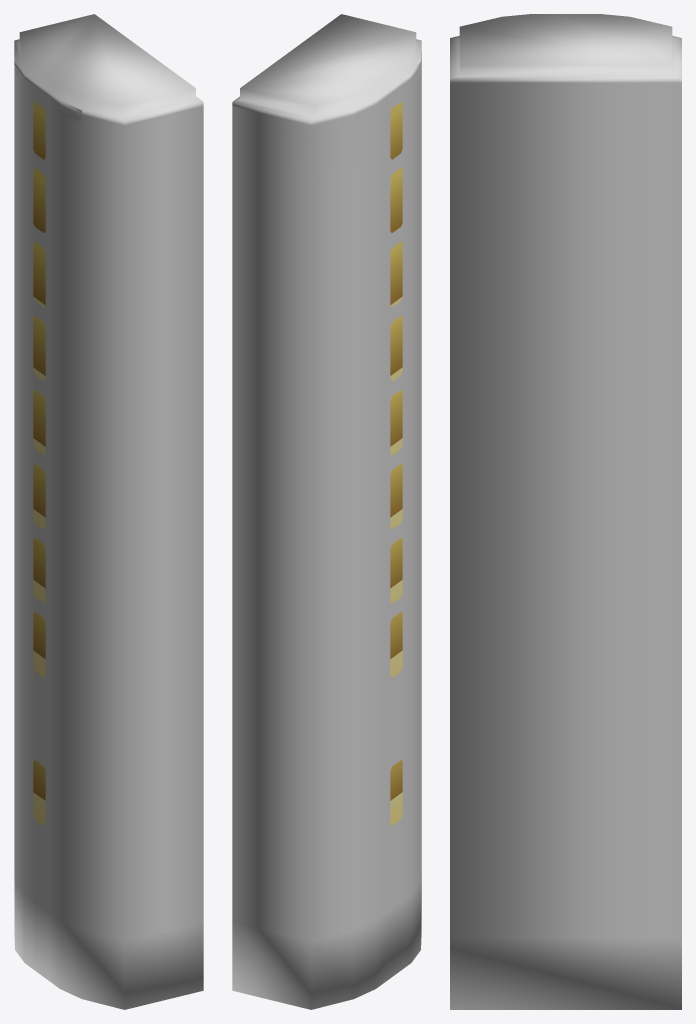
Rendered from fondo_edificioF.fbx.
The picture shows the model from 3 angles, left to right: view 1: azimuth 30°, elevation 25°; view 2: azimuth 150°, elevation 25°; view 3: azimuth 270°, elevation 25°; orthographic projection. The views are drawn at different scales.
Visible parts, largest first — view 1: edificioA.005; view 2: edificioA.005; view 3: edificioA.005.
Boxes of the visible parts, <box> form: edificioA.005: <box>14,14,203,1009</box>; edificioA.005: <box>232,14,421,1009</box>; edificioA.005: <box>450,14,681,1009</box>.
Size of the model in its own units: 412 by 3241 by 721.
